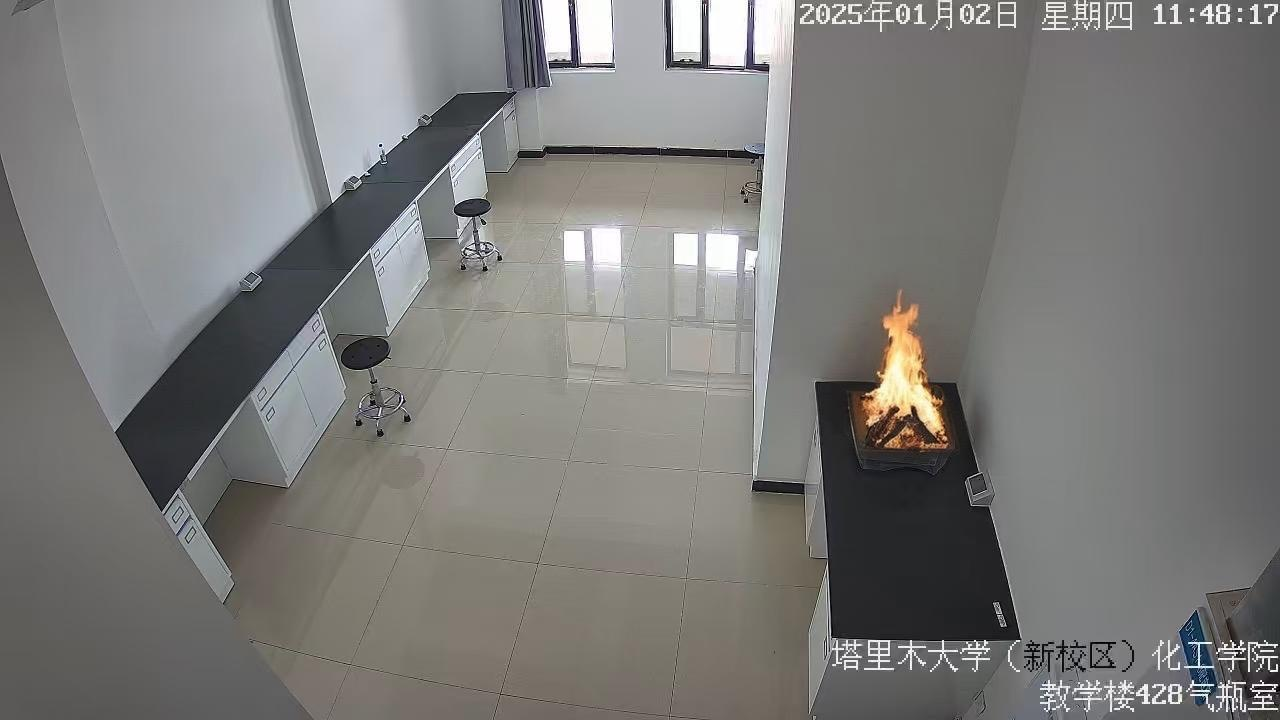fire: (838, 283, 992, 474)
